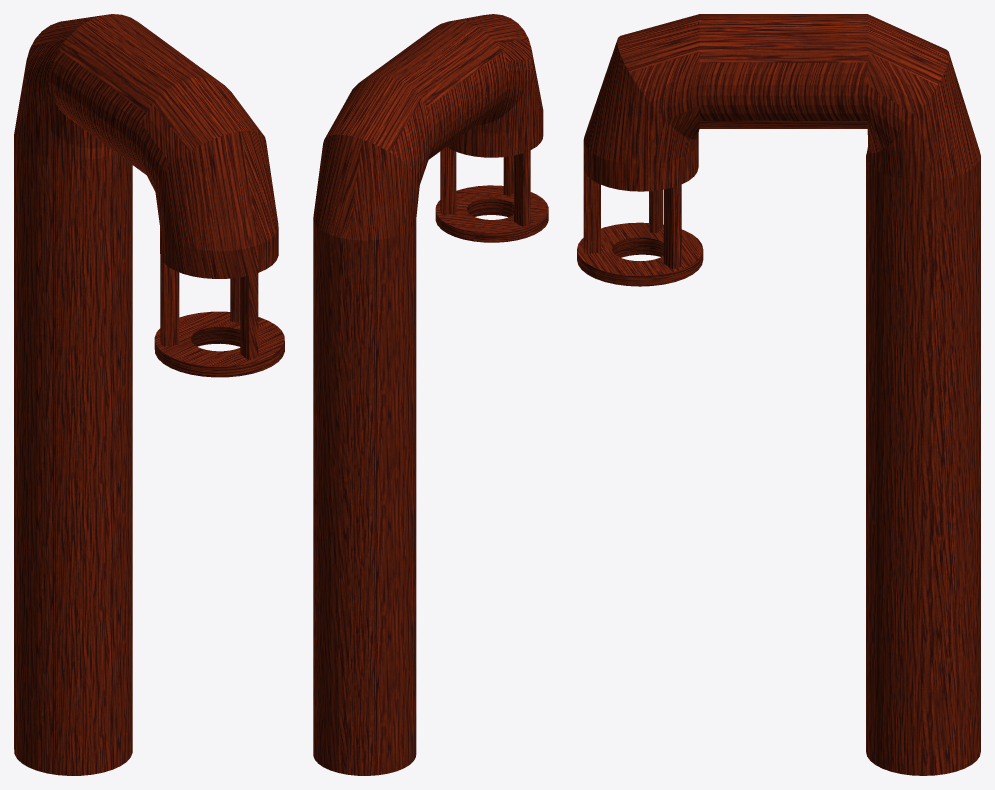
File: street_lamp.obj
The picture shows the model from 3 angles, left to right: view 1: azimuth 30°, elevation 25°; view 2: azimuth 150°, elevation 25°; view 3: azimuth 270°, elevation 25°; orthographic projection. The views are drawn at different scales.
Parts seen in each view (by area): view 1: Cylinder; view 2: Cylinder; view 3: Cylinder.
Part boxes in pixels (left/top/right/bottom): Cylinder: left=14, top=14, right=284, bottom=775; Cylinder: left=313, top=14, right=548, bottom=775; Cylinder: left=577, top=14, right=980, bottom=775.
Size of the model in its own units: 1.76 by 11.24 by 5.62.
1 material, 1 textured.
